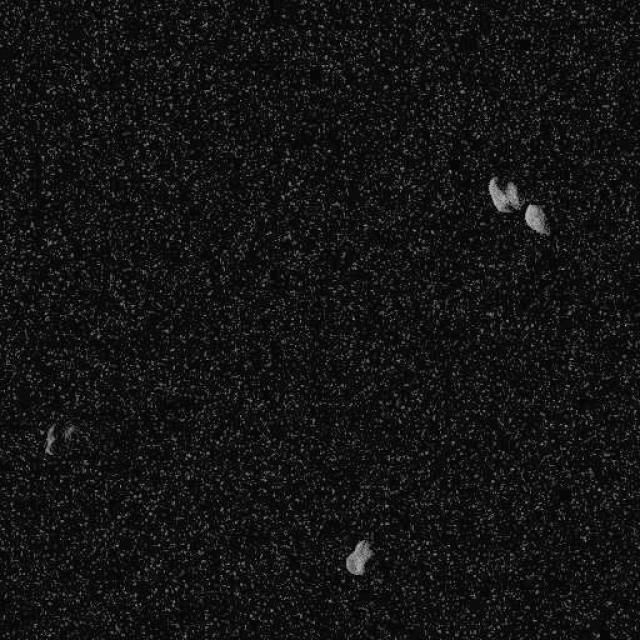D2: (486, 175, 522, 213), (42, 420, 78, 458), (344, 538, 374, 576), (524, 201, 550, 235)
